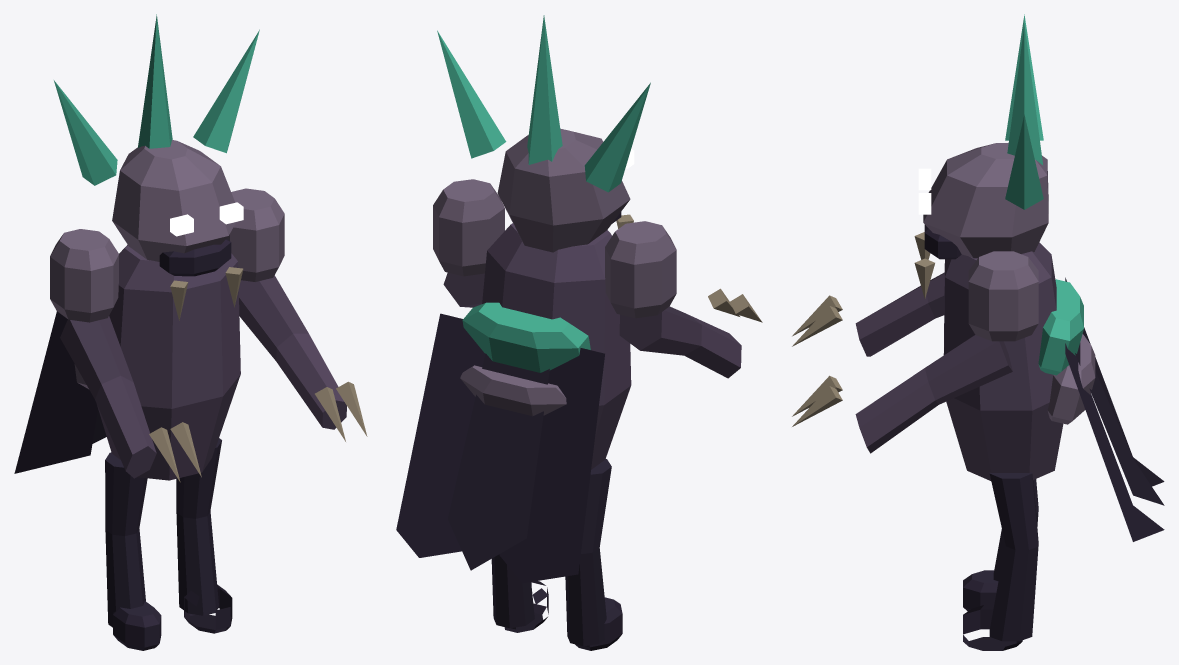
File: enemy_caller.glb
3 renders of one model, left to right at view 1: azimuth 30°, elevation 25°; view 2: azimuth 150°, elevation 25°; view 3: azimuth 270°, elevation 25°, orthographic. The views are drawn at different scales.
Visible parts, largest first — view 1: body, arms, eyes; view 2: body, arms; view 3: body, arms, eyes.
Boxes of the visible parts, left/top/right/bottom form: body: left=14, top=14, right=259, bottom=650; arms: left=50, top=188, right=367, bottom=482; eyes: left=170, top=202, right=243, bottom=236; body: left=396, top=15, right=650, bottom=650; arms: left=433, top=179, right=762, bottom=378; body: left=914, top=14, right=1164, bottom=650; arms: left=792, top=251, right=1038, bottom=453; eyes: left=918, top=168, right=931, bottom=214.
Bounding box in the file's own units: 0.5605 × 1.47 × 0.8254.
